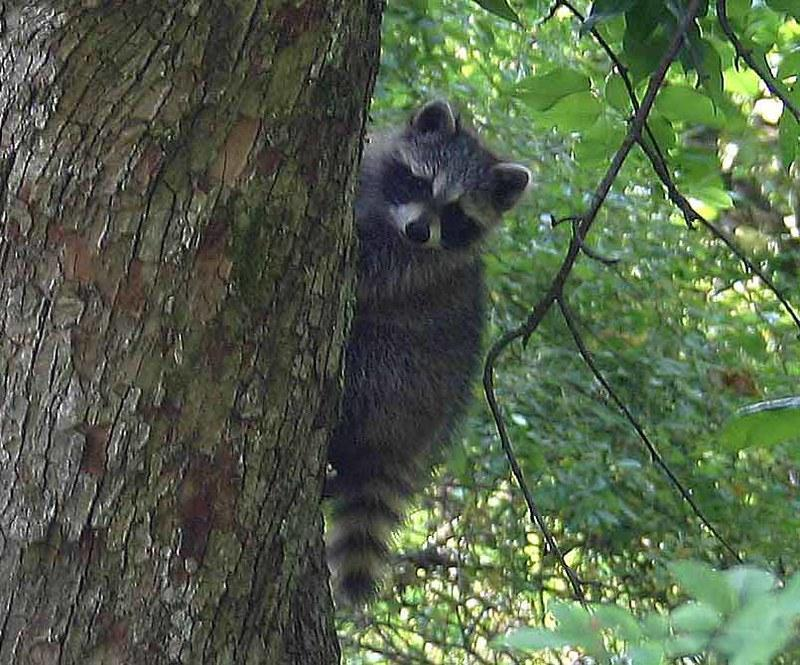raccoon: (341, 99, 533, 617)
